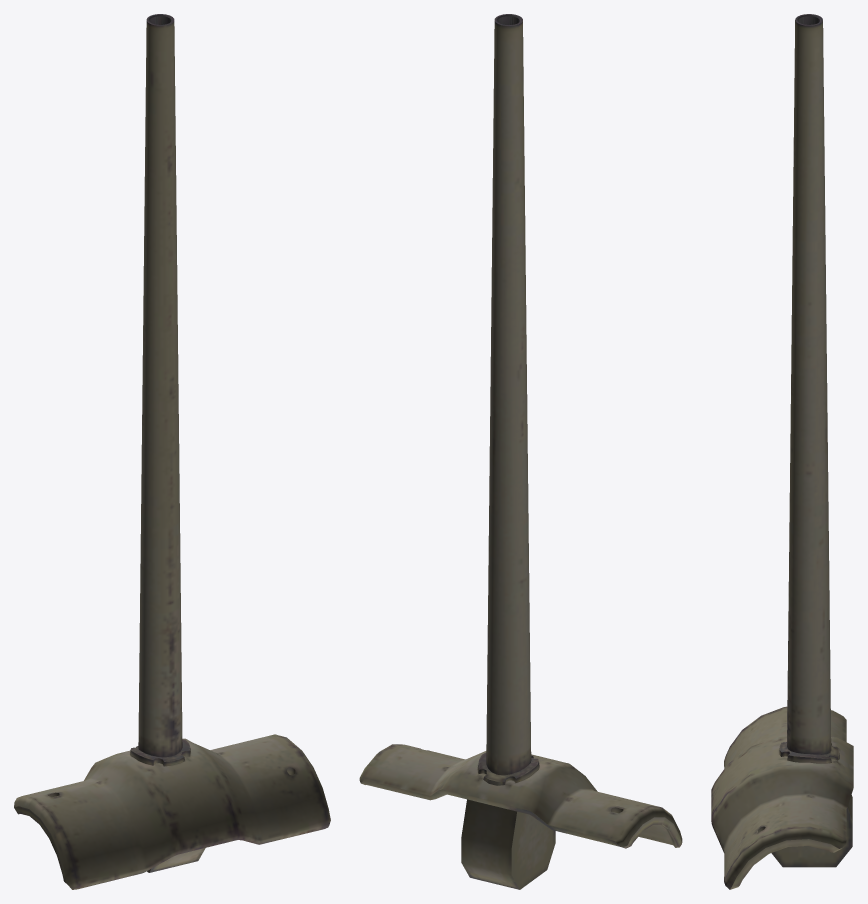
File: Gun_04.glb
The picture shows the model from 3 angles, left to right: view 1: azimuth 30°, elevation 25°; view 2: azimuth 150°, elevation 25°; view 3: azimuth 270°, elevation 25°; orthographic projection. The views are drawn at different scales.
Parts seen in each view (by area): view 1: set_0_group_0; view 2: set_0_group_0; view 3: set_0_group_0.
Boxes of the visible parts, x1,y1,x2,y2 form: set_0_group_0: (14, 14, 330, 889); set_0_group_0: (359, 14, 682, 889); set_0_group_0: (711, 14, 853, 889).
Bounding box in the file's own units: 1.04 × 3.18 × 0.4918.
Materials: 1 (1 with a texture image).
